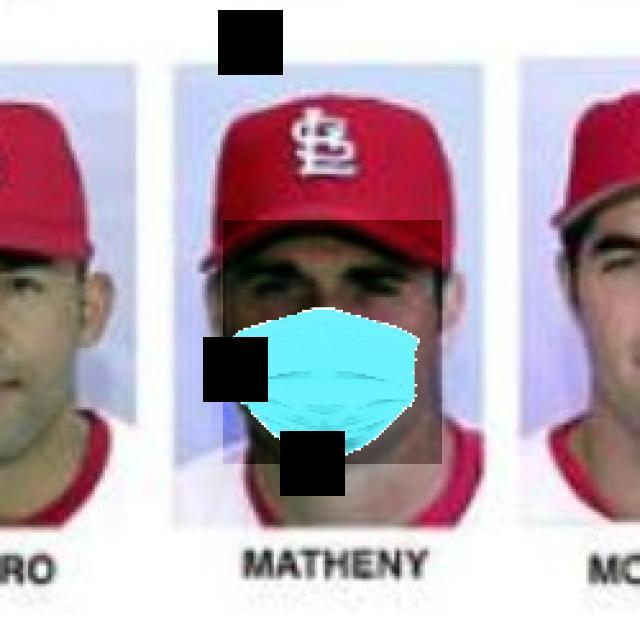surgical: (223, 221, 442, 464)
